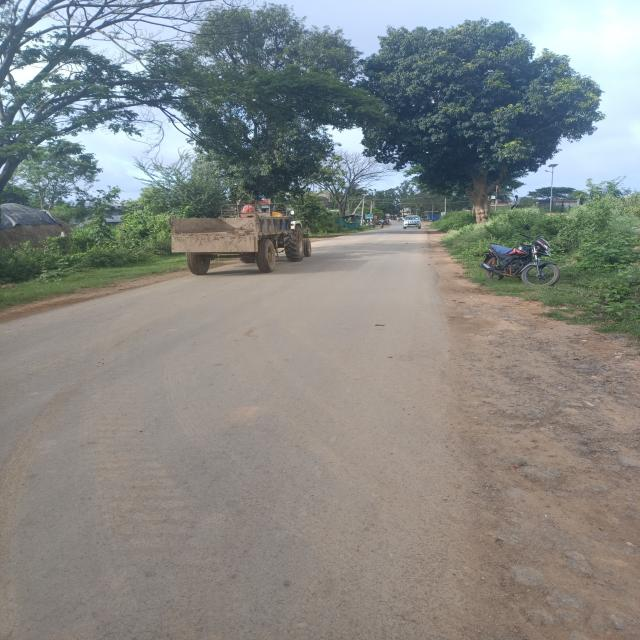Tractor: (145, 218, 308, 268)
